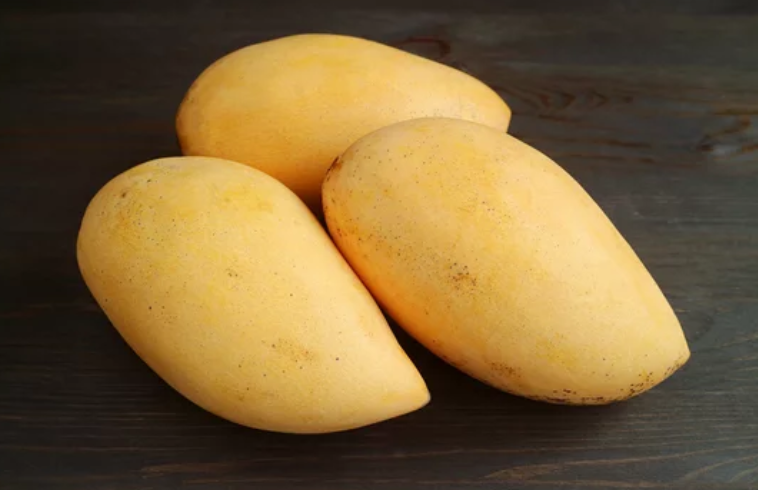mango: (325, 115, 690, 409), (68, 149, 430, 434), (178, 31, 512, 211)
